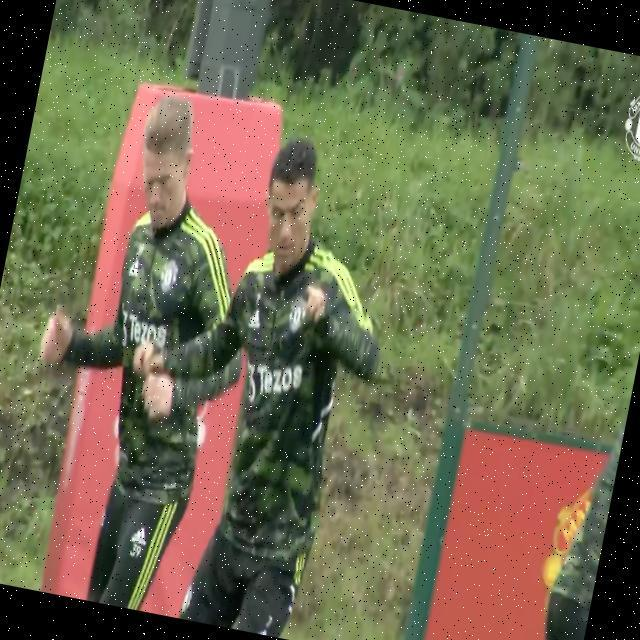Adidas: (131, 525, 149, 547), (249, 307, 263, 329), (129, 256, 143, 278)
